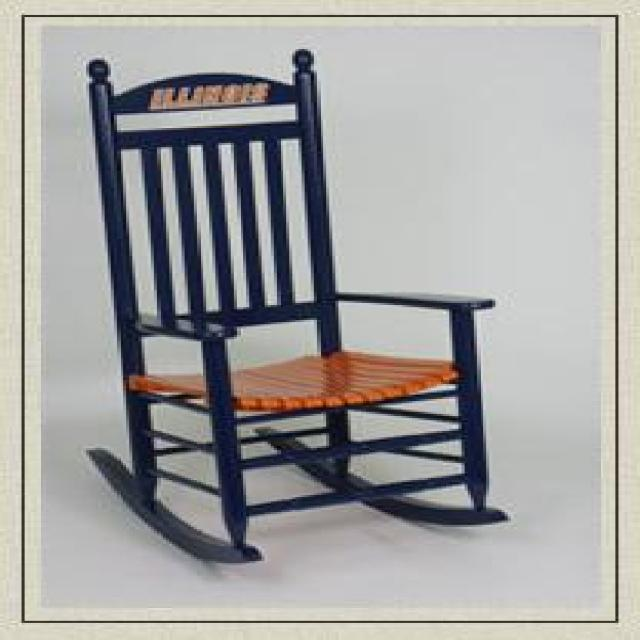chair: (80, 47, 511, 563)
